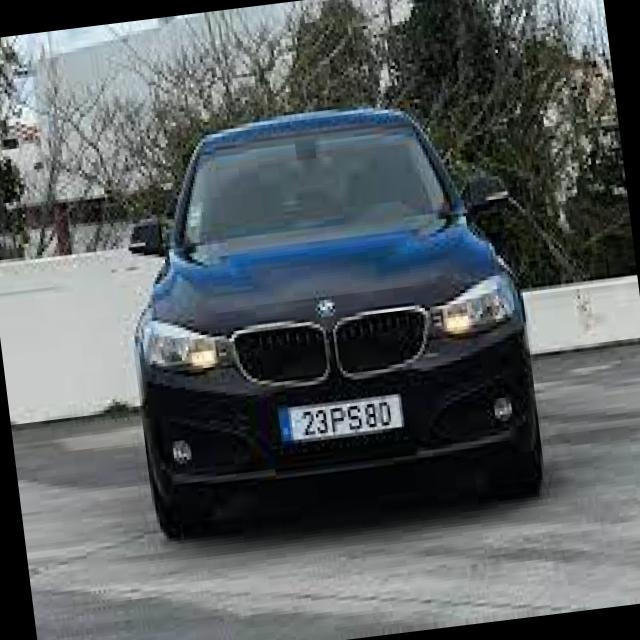portuguese-license-plates: (272, 390, 410, 454)
